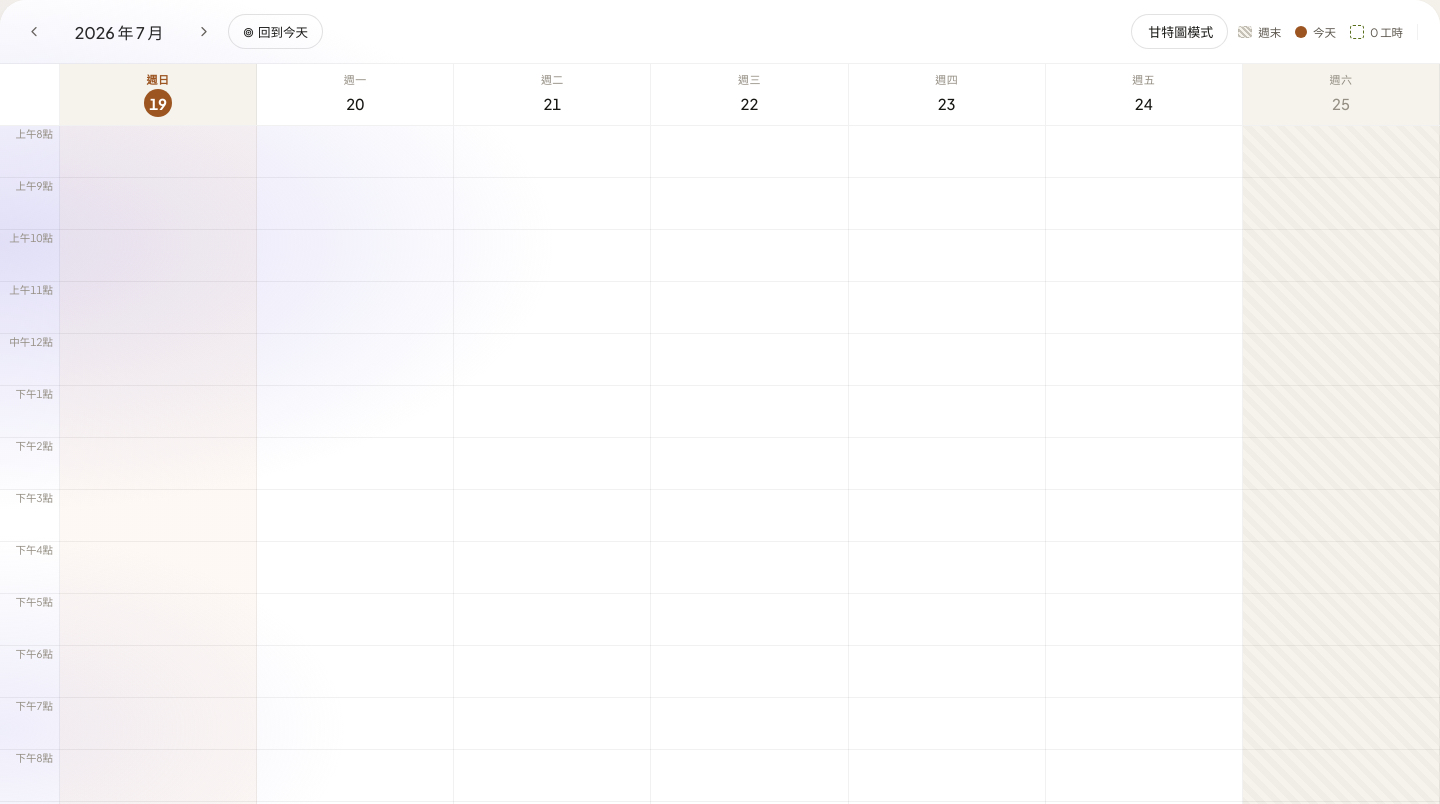
Test: 導覽與模式切換 › 「回到今天」回到本週(週日為首欄)
The width and height of the screenshot is (1440, 804).
Step 1. Click the 2nd button → click(204, 32), box [188,16,220,48]
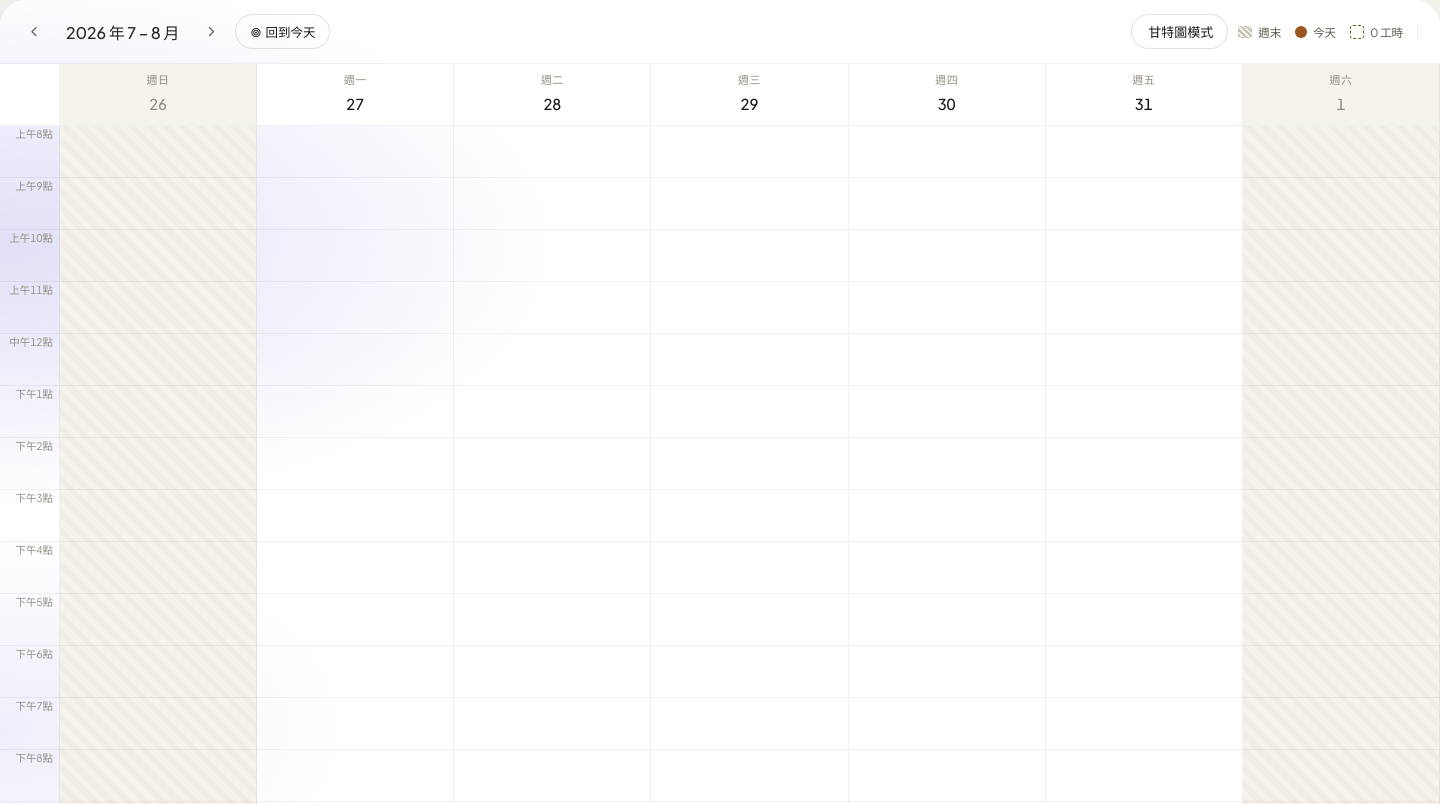
Step 2. Click the button "回到今天" → click(283, 32), box [236,14,330,49]
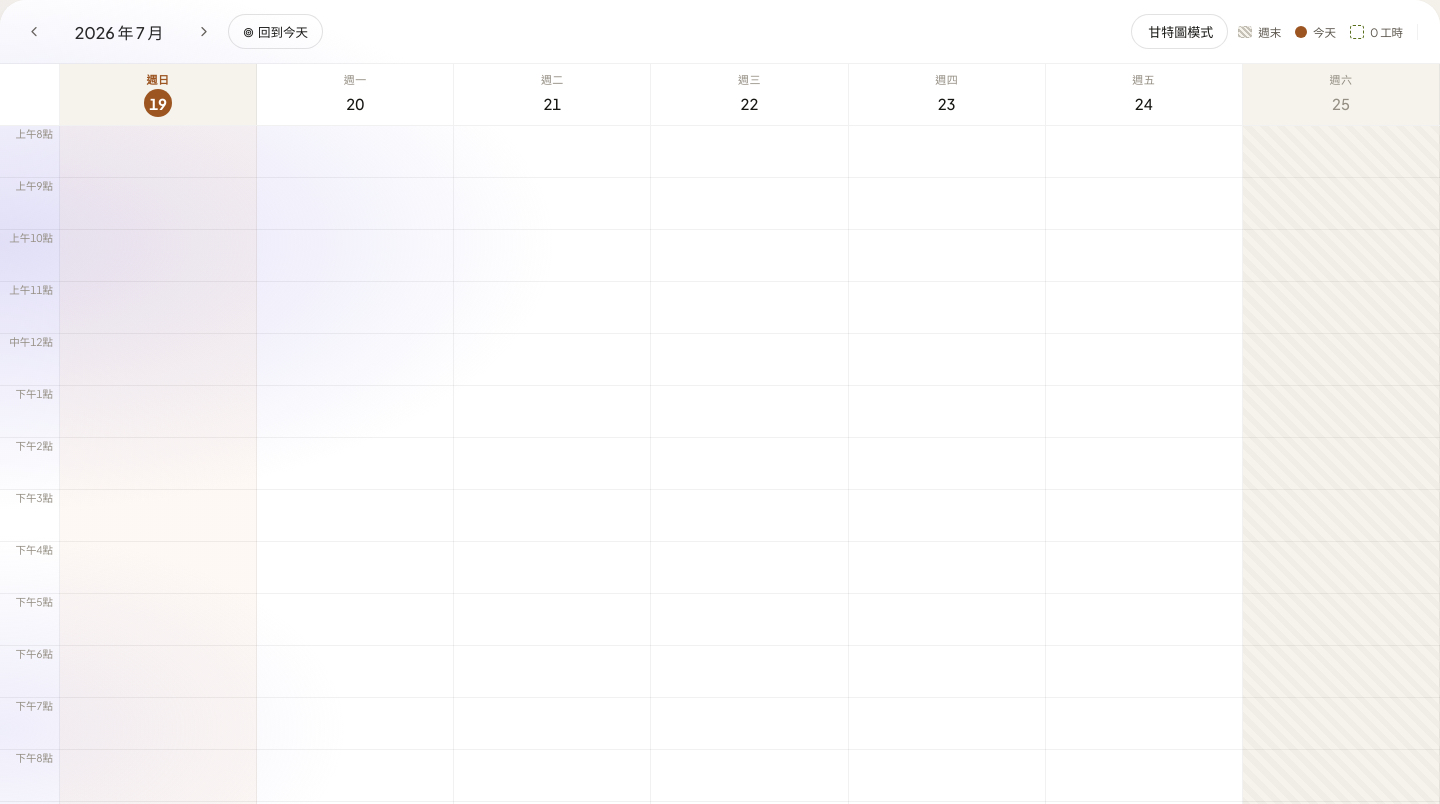
Expected: the text "19" is shown, [144,89,172,117]
